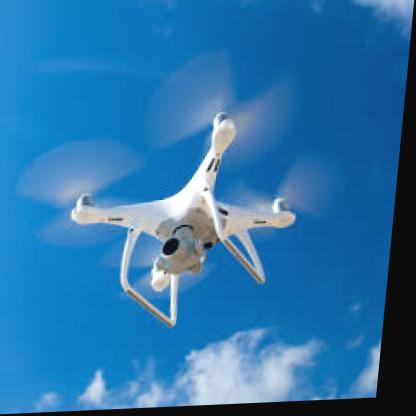UAS: (66, 111, 310, 333)
